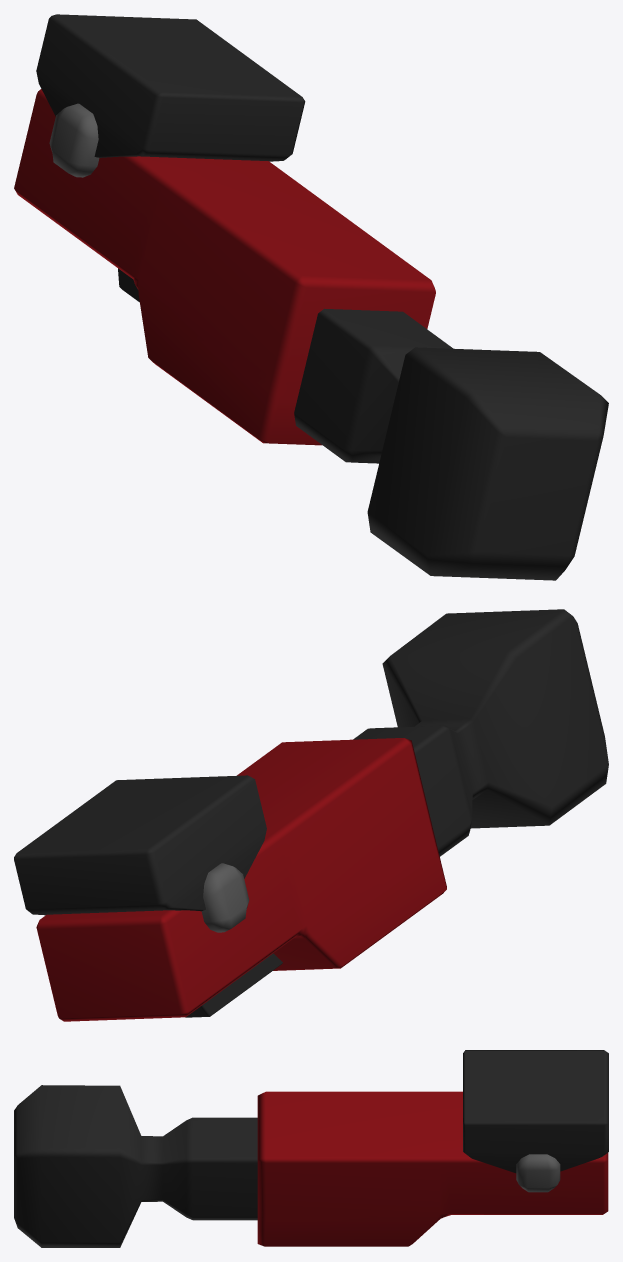
Rendered from Ship_Boss_02_Weapon_L_01.fbx.
3 renders of one model, top to bottom at view 1: azimuth 30°, elevation 25°; view 2: azimuth 150°, elevation 25°; view 3: azimuth 270°, elevation 25°, orthographic. The views are drawn at different scales.
Parts seen in each view (by area): view 1: Ship_Boss_02_Weapon_L_01; view 2: Ship_Boss_02_Weapon_L_01; view 3: Ship_Boss_02_Weapon_L_01.
Boxes of the visible parts, x1,y1,x2,y2 form: Ship_Boss_02_Weapon_L_01: [14, 14, 608, 580]; Ship_Boss_02_Weapon_L_01: [14, 609, 608, 1021]; Ship_Boss_02_Weapon_L_01: [14, 1050, 608, 1247].
Bounding box in the file's own units: 109 × 139 × 427.
